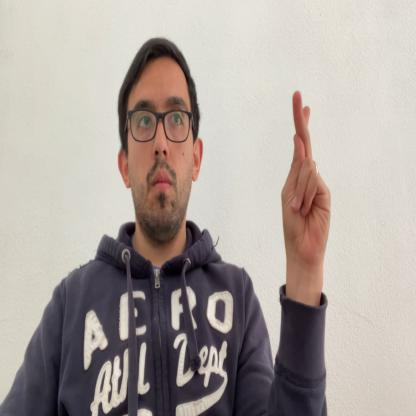P: (281, 90, 331, 298)
